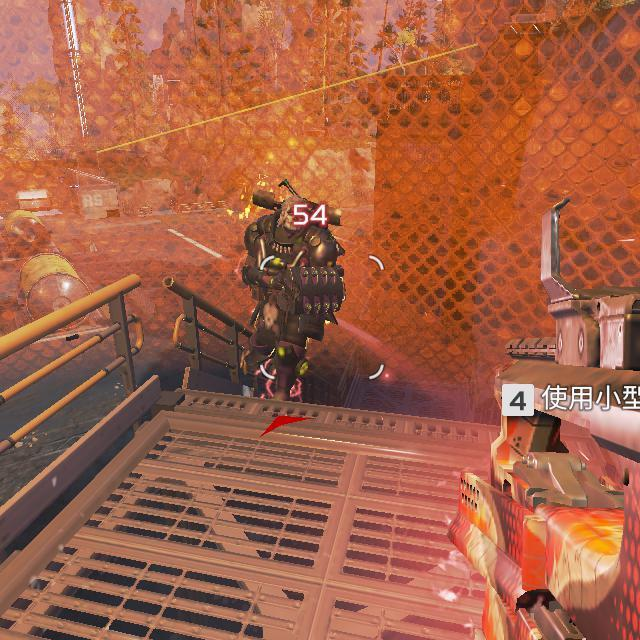avatar: (238, 183, 348, 404)
